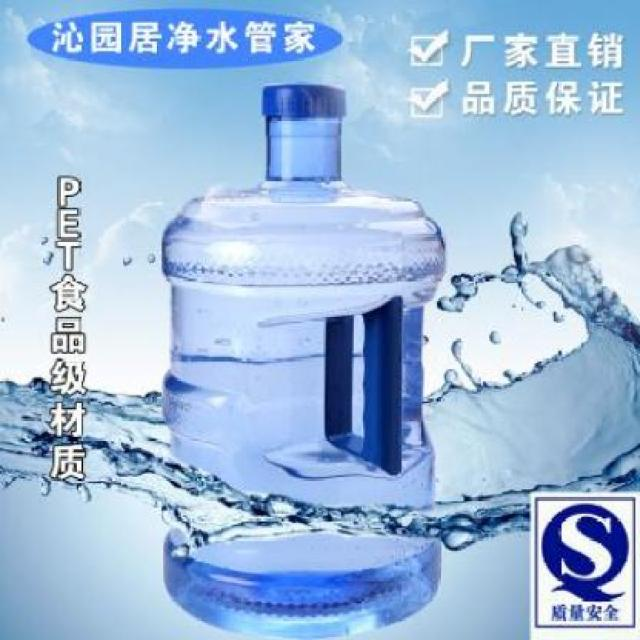coolerbottle: (148, 77, 453, 640)
